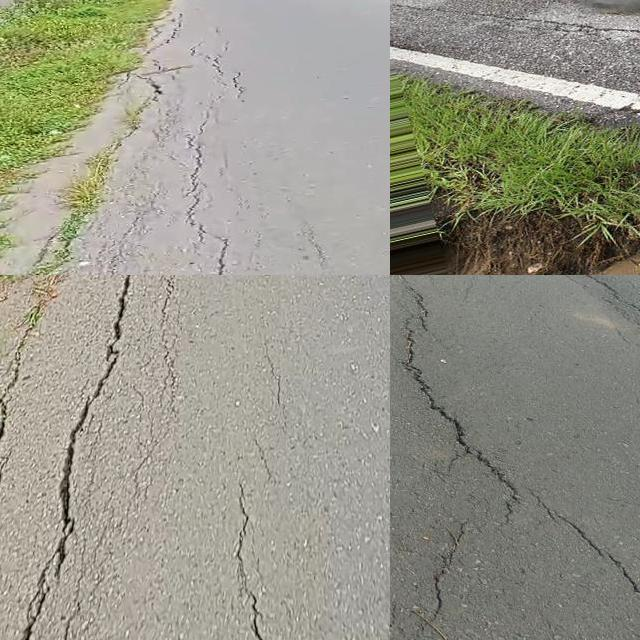Memanjang: (390, 275, 640, 609), (6, 275, 145, 640), (218, 468, 296, 640), (179, 82, 235, 275)
Pinggir: (489, 78, 640, 204)
